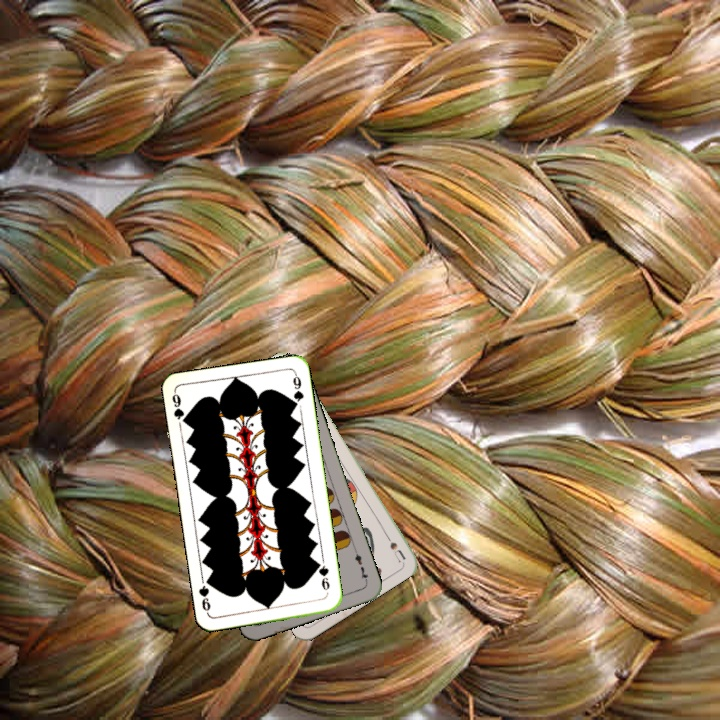E7: (351, 546, 371, 585)
G9: (168, 388, 190, 427), (313, 558, 332, 593)
SU: (379, 526, 408, 564)
